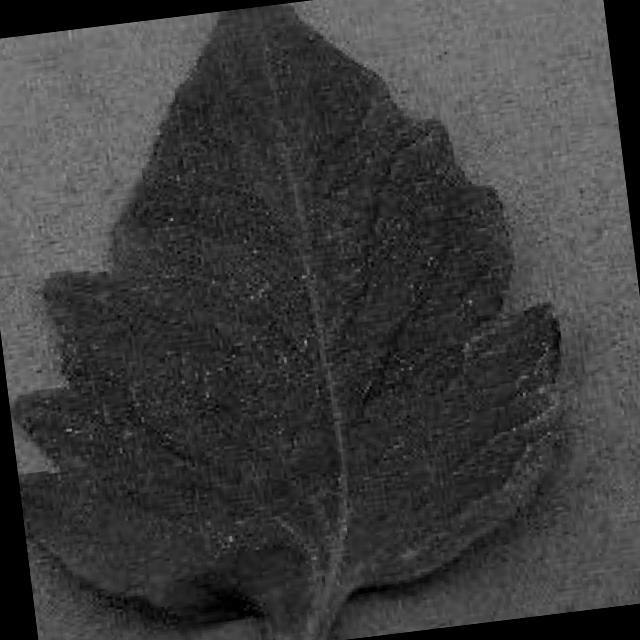bacterial spot: (8, 2, 568, 640)
